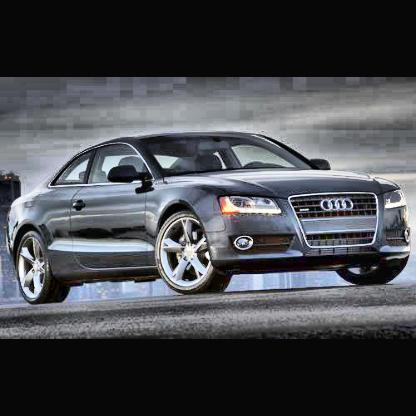Audi A5 Coupe 2012: (8, 127, 416, 303)
